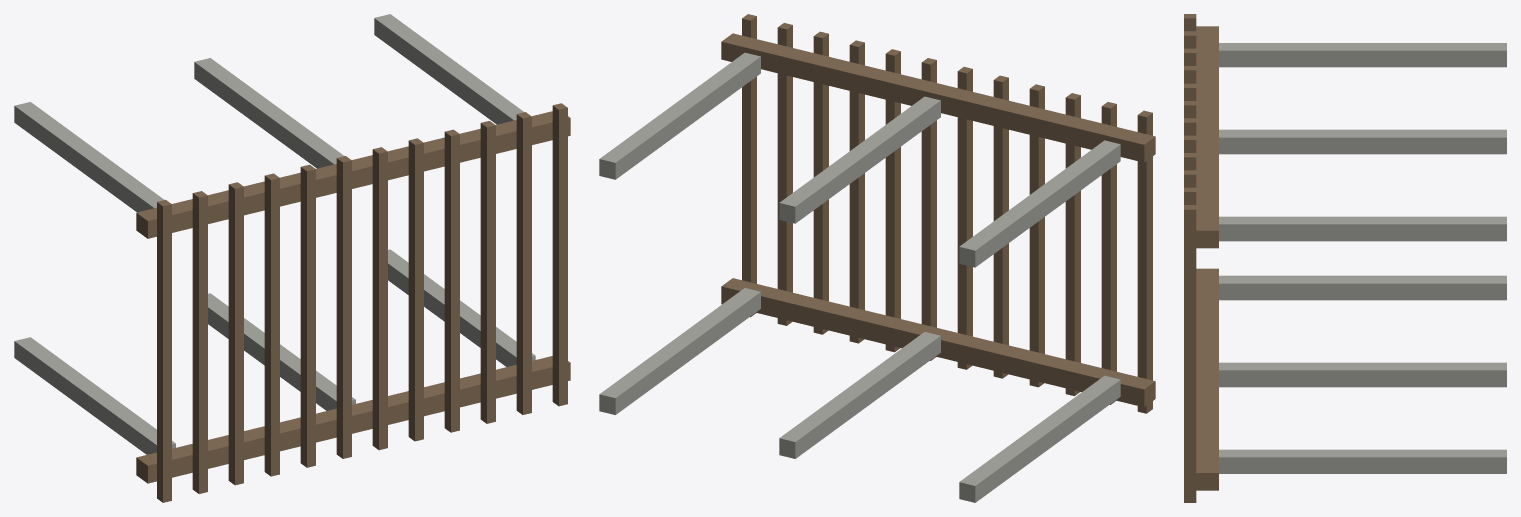
The model's file is pergola.glb.
3 renders of one model, left to right at view 1: azimuth 30°, elevation 25°; view 2: azimuth 150°, elevation 25°; view 3: azimuth 270°, elevation 25°, orthographic.
Visible parts, largest first — view 1: joinery; view 2: joinery; view 3: joinery.
Boxes of the visible parts, x1=… form: joinery: x1=14, y1=14, x2=570, y2=502; joinery: x1=599, y1=14, x2=1155, y2=502; joinery: x1=1184, y1=14, x2=1506, y2=502.
Bounding box in the file's own units: 4.7 × 3.15 × 3.14.
